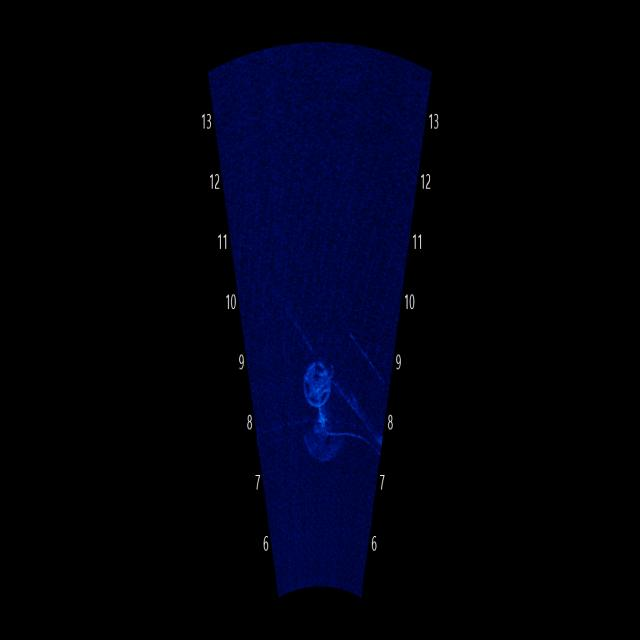circle: (299, 352, 343, 413)
